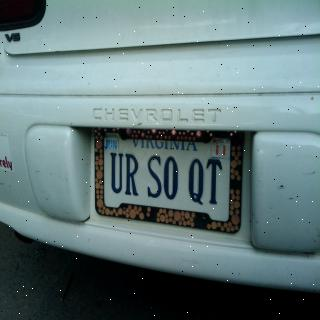license: (105, 132, 233, 210)
